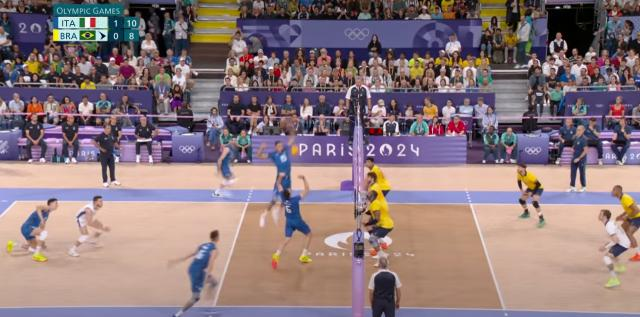Levantador: (277, 175, 311, 261), (517, 164, 545, 228)
Libero: (598, 208, 626, 286), (71, 195, 105, 255)
bola: (292, 144, 300, 156)
